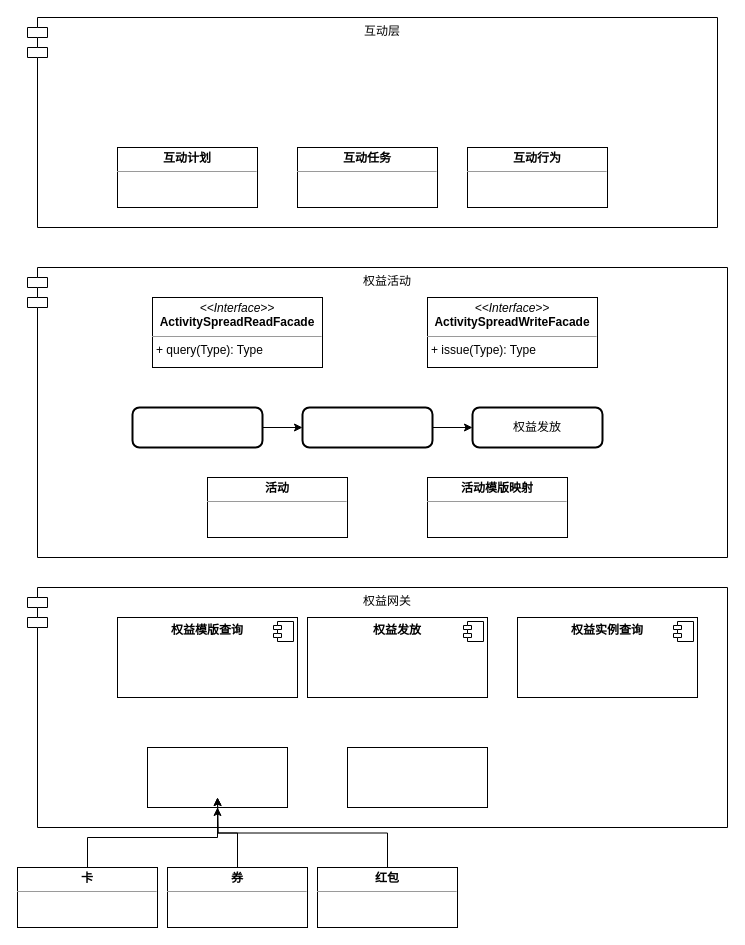
This 745x945 diagram has some shape labels left out. The centre of each missing label's shape, as x and y in pixels:
权益: (217,777)
权益匹配: (367,427)
权益实例: (417,777)
活动召回: (197,427)
